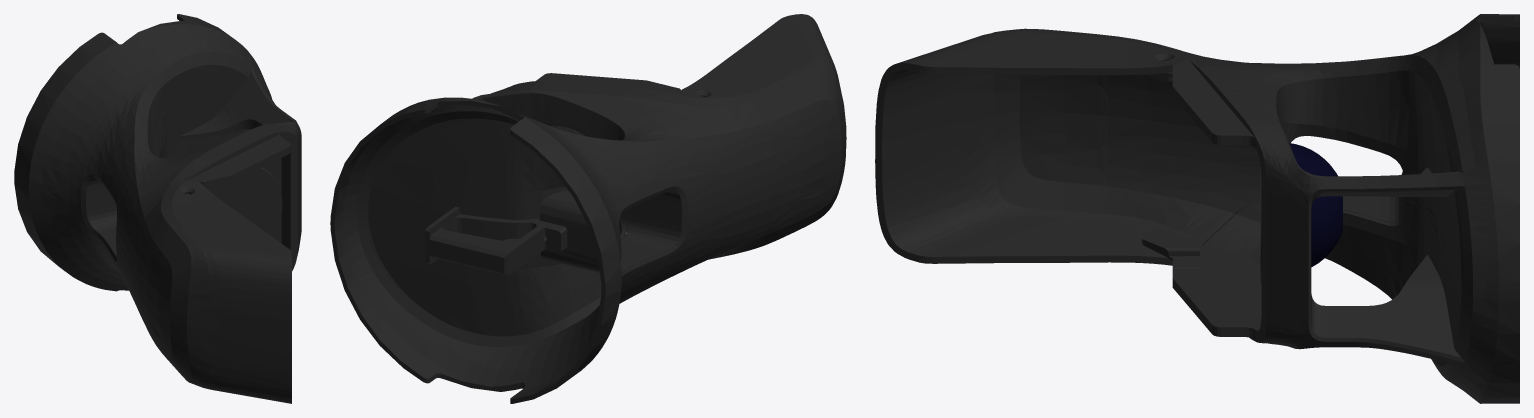
The model's file is head1.obj.
The picture shows the model from 3 angles, left to right: view 1: azimuth 30°, elevation 25°; view 2: azimuth 150°, elevation 25°; view 3: azimuth 270°, elevation 25°; orthographic projection. The views are drawn at different scales.
Parts seen in each view (by area): view 1: head_link01; view 2: head_link01; view 3: head_link01.
Part boxes in pixels (<box>): head_link01: <box>14,14,301,403</box>; head_link01: <box>330,14,846,403</box>; head_link01: <box>875,14,1519,403</box>.
Bounding box in the file's own units: 0.1441 × 0.1287 × 0.2132.
